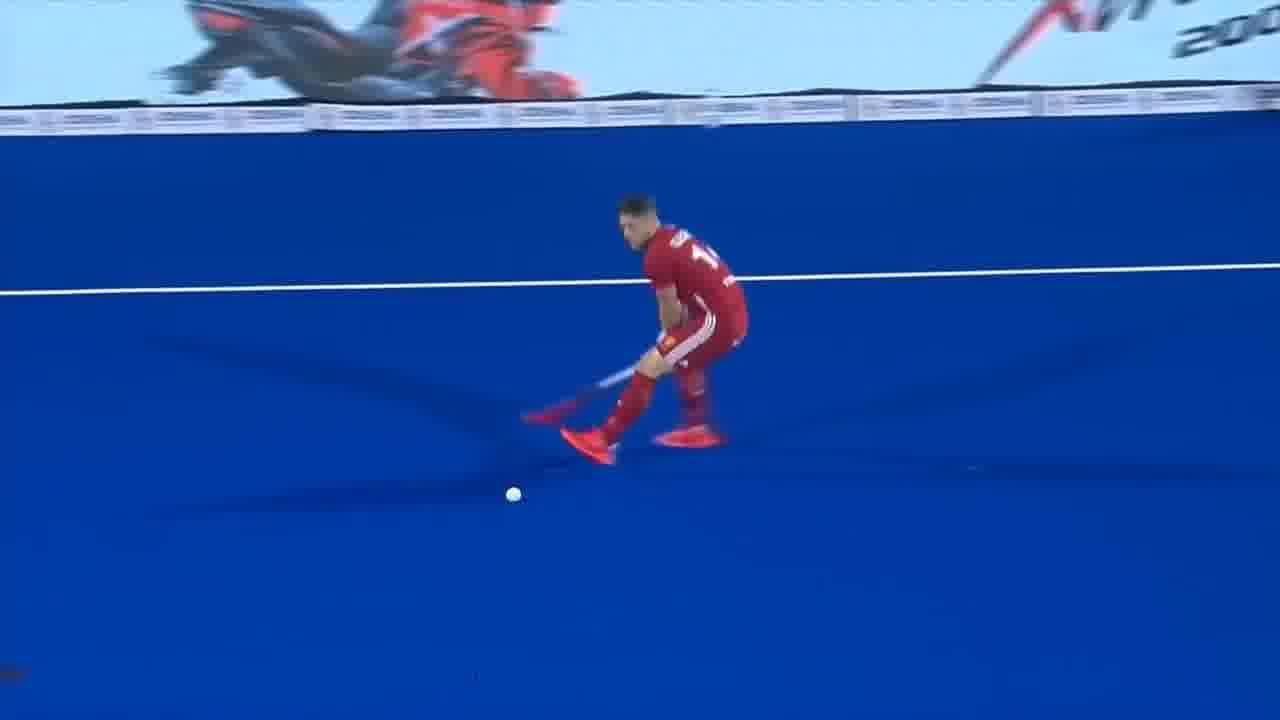ball: (499, 477, 533, 506)
